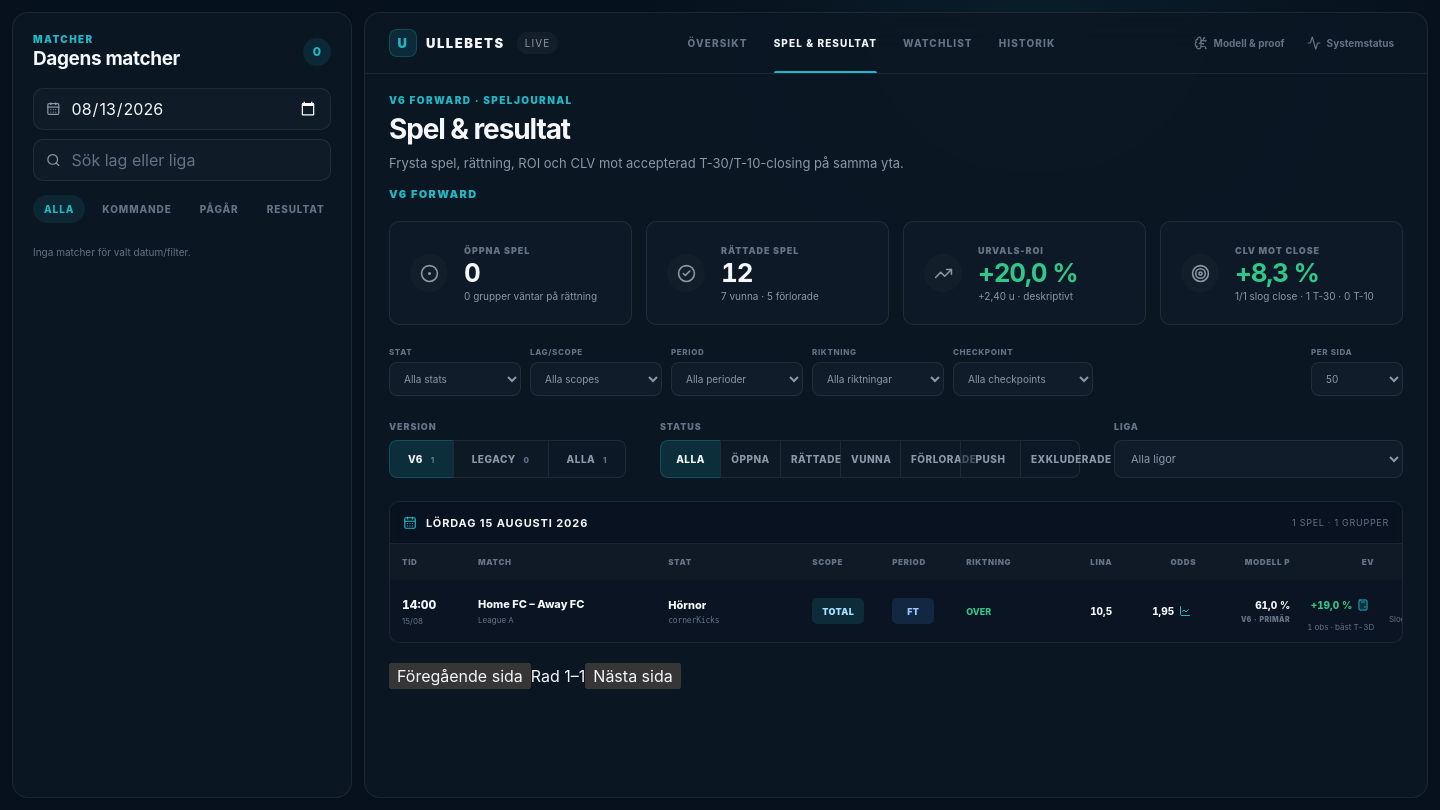
Test case: Spel & resultat med accepterad CLV › förklarar nollpris och visar hur EV ändras utan att lova träffsäkerhet
Click the button named "Förklara pris och EV för Home FC mot Away FC · Hörnor": (1338, 605) [1303, 591, 1374, 619]
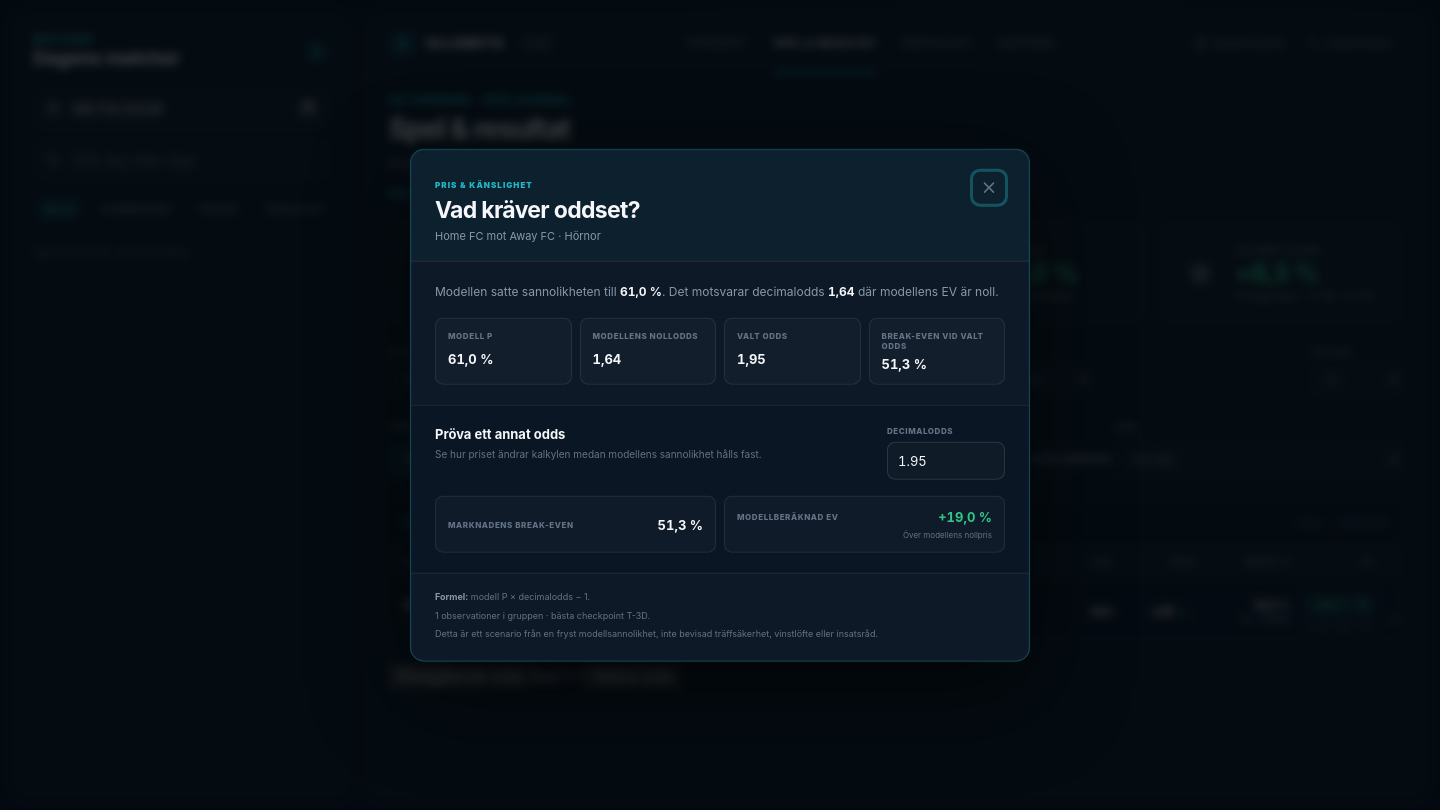
Expected: the text "1,64" is shown 2 times, [828, 284, 854, 299]; [592, 351, 621, 367]
Expected: the text "51,3 %" is shown 2 times, [882, 356, 927, 372]; [658, 516, 703, 532]
Expected: the text "inte bevisad träffsäkerhet, vinstlöfte eller insatsråd" is shown, [435, 628, 878, 639]
Replace the text in the field labelled "Decimalodds" with "1,50": (946, 461) [887, 442, 1005, 480]
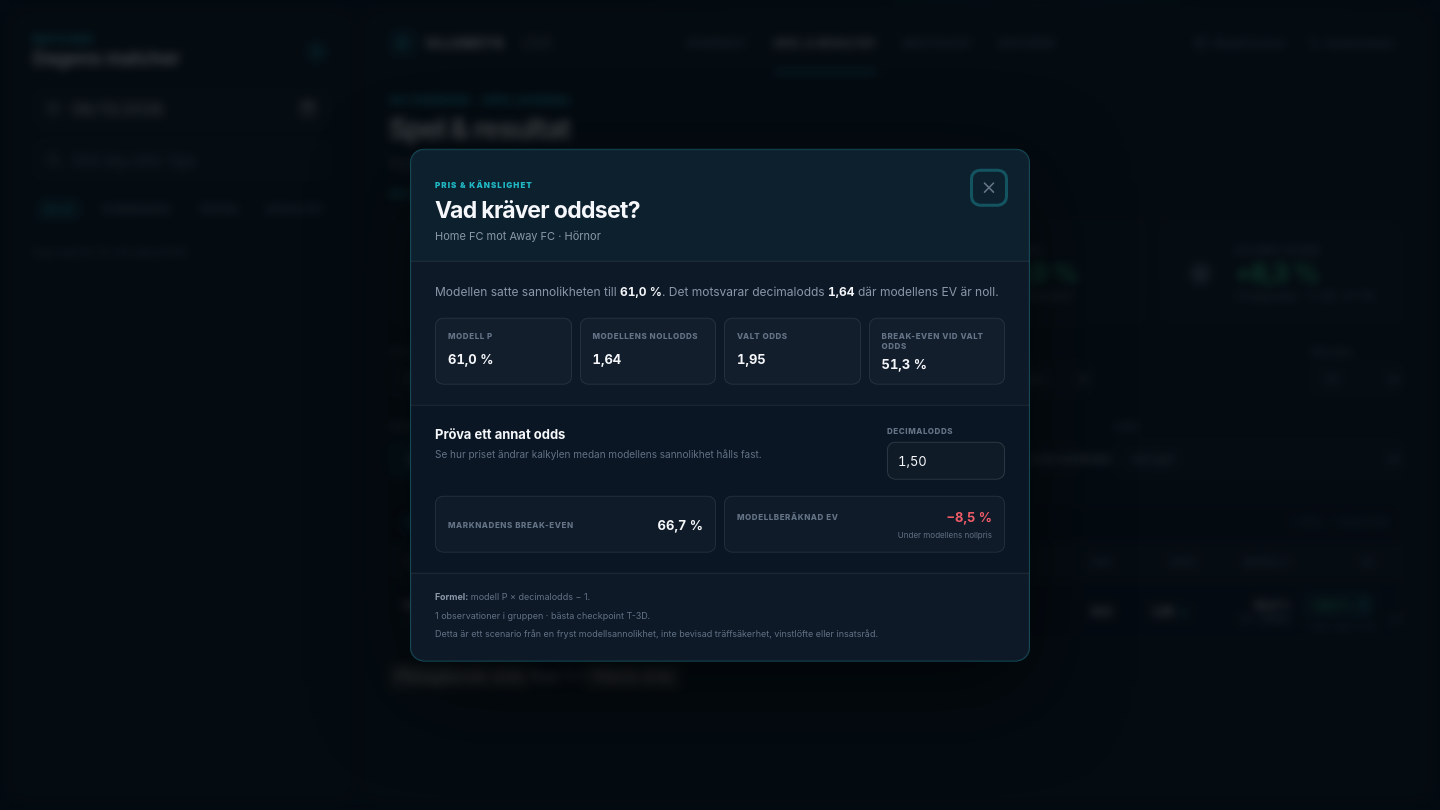
Expected: the text "66,7 %" is shown, [658, 516, 703, 532]
Expected: the text "−8,5 %" is shown, [947, 509, 992, 525]
Expected: the text "Under modellens nollpris" is shown, [898, 530, 992, 540]
